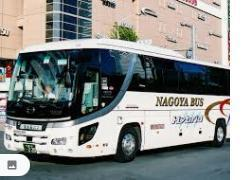bus: (5, 39, 230, 164)
